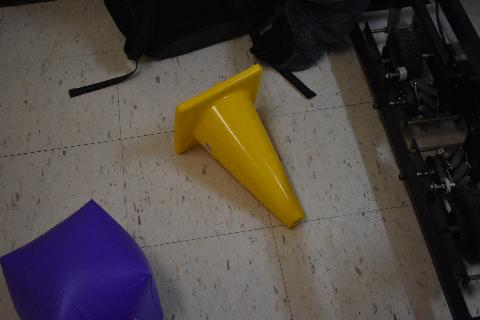cone: (174, 64, 308, 228)
cube: (0, 198, 164, 320)
